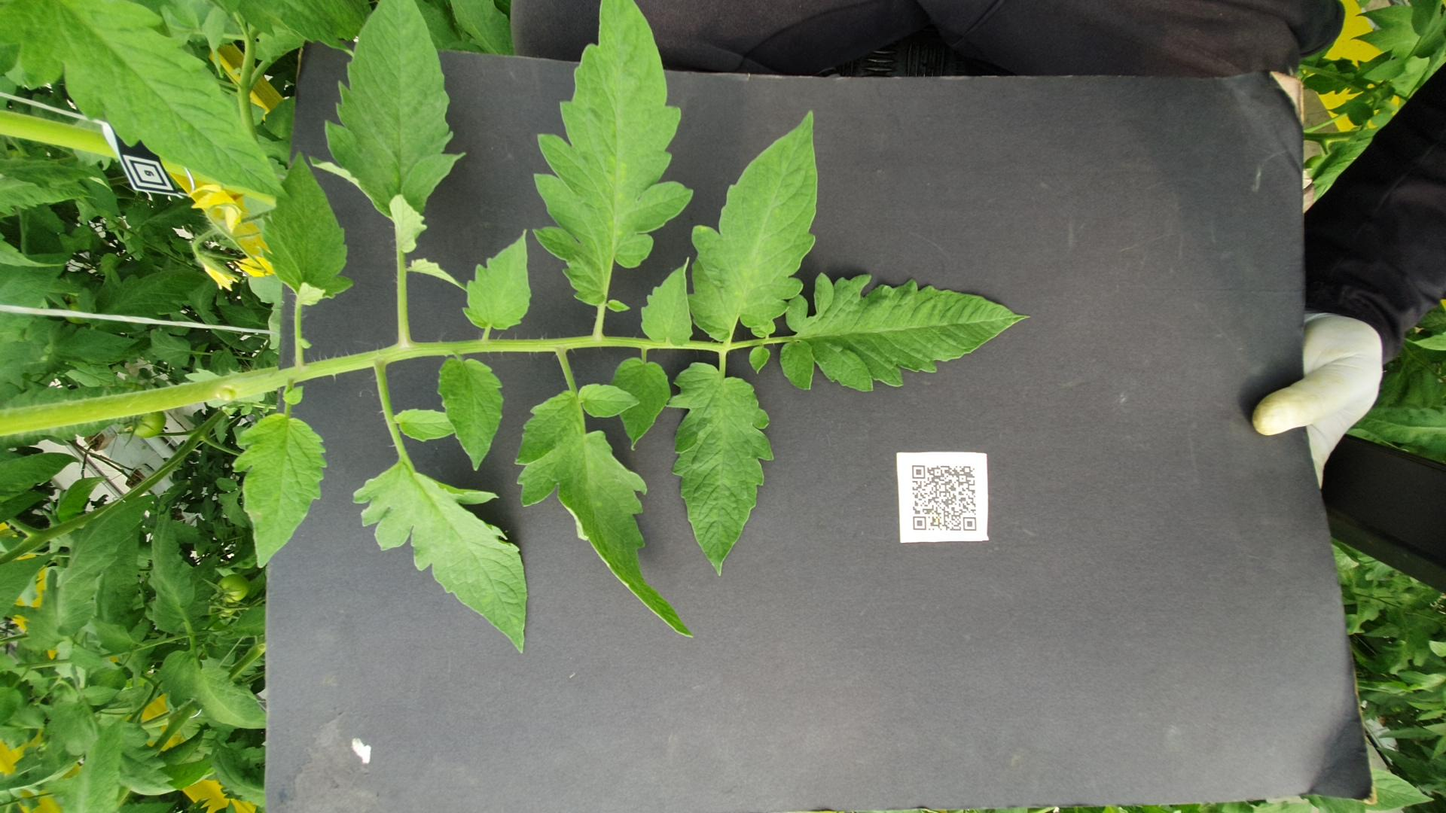Healthy: (1092, 0, 1446, 164), (904, 300, 1446, 390), (310, 289, 763, 391), (998, 173, 1446, 262), (280, 196, 619, 297), (748, 439, 961, 579), (840, 388, 1251, 460), (424, 375, 801, 436), (433, 130, 711, 185), (314, 31, 568, 89), (907, 146, 1181, 199), (149, 90, 290, 150), (852, 52, 971, 117), (610, 245, 813, 283), (859, 259, 1041, 300), (1350, 133, 1446, 209), (318, 83, 548, 109), (645, 344, 812, 377), (781, 26, 876, 79), (829, 361, 991, 391), (553, 0, 643, 45), (1348, 252, 1446, 287), (791, 85, 861, 107), (862, 122, 905, 146)
